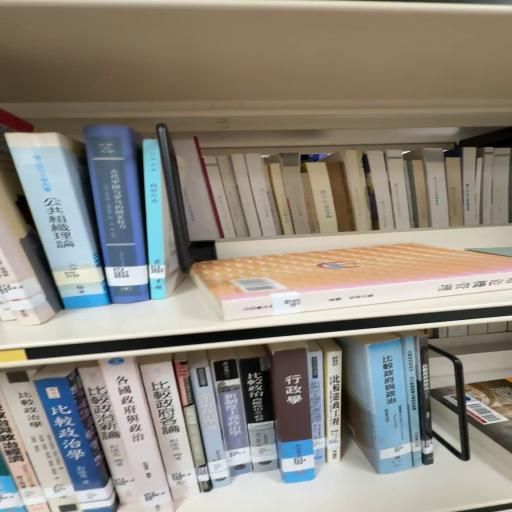flat: (190, 243, 512, 320)
